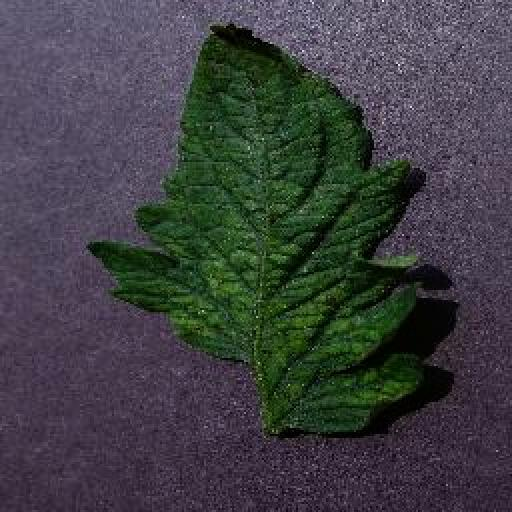Mosaic Virus: (82, 18, 428, 436)
